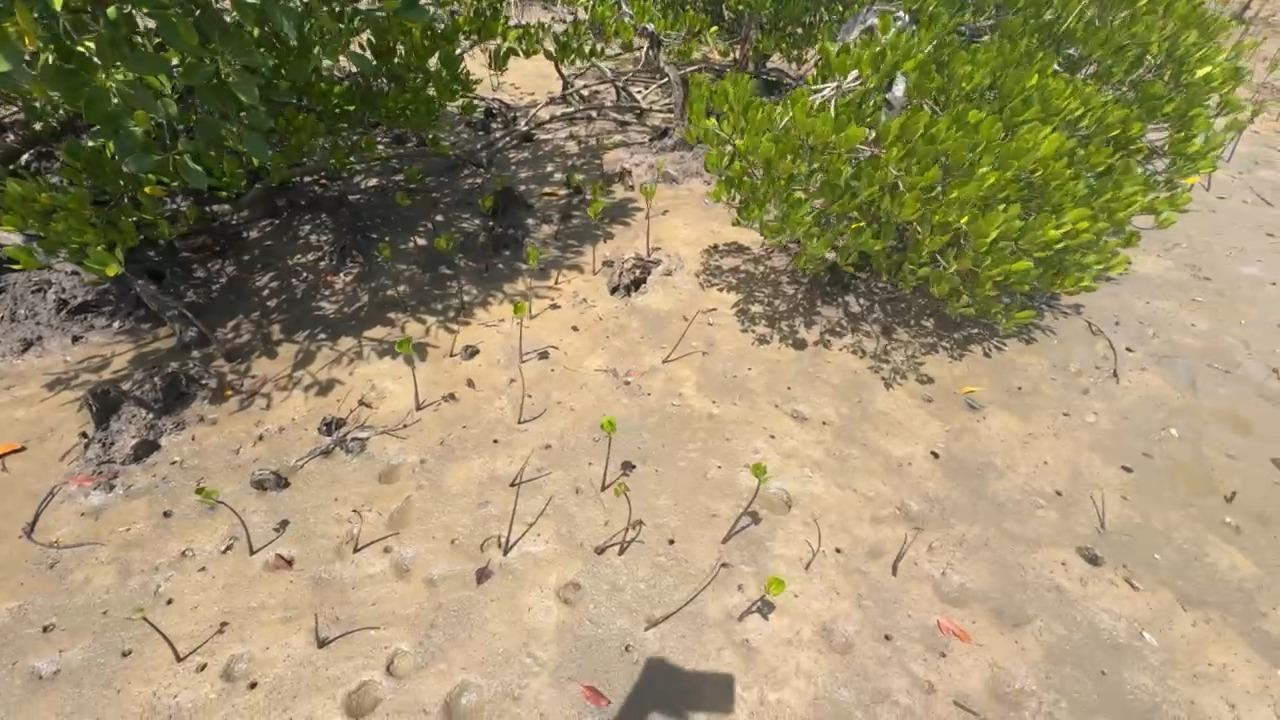Tree: (643, 562, 734, 632), (721, 461, 792, 545), (194, 486, 254, 556), (124, 606, 181, 663), (663, 307, 718, 360), (434, 233, 469, 308), (503, 454, 528, 556), (640, 156, 664, 256), (738, 576, 786, 620), (394, 335, 422, 409), (379, 241, 406, 309), (594, 518, 644, 550), (586, 201, 607, 274), (891, 526, 921, 575), (613, 480, 632, 556), (395, 190, 420, 247), (476, 193, 494, 271), (600, 417, 617, 491), (521, 240, 543, 295), (803, 515, 821, 571), (515, 300, 529, 362), (511, 449, 533, 485), (351, 506, 362, 550), (314, 611, 324, 647)
